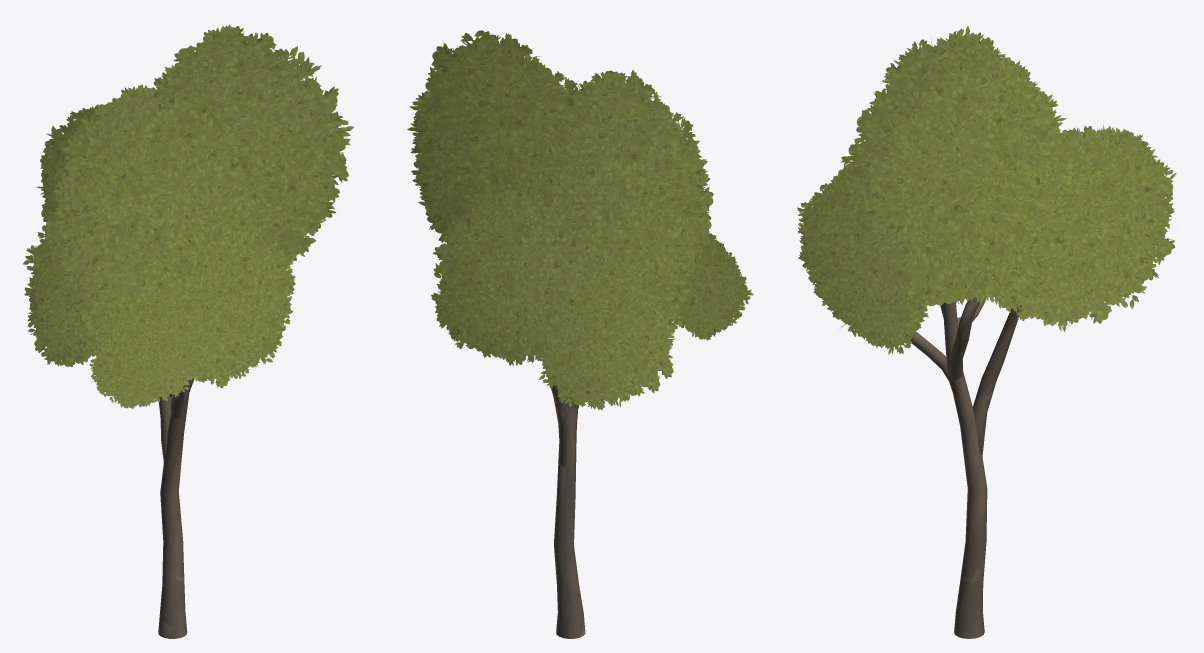
Rendered from SM_Tree_03.fbx.
3 renders of one model, left to right at view 1: azimuth 30°, elevation 25°; view 2: azimuth 150°, elevation 25°; view 3: azimuth 270°, elevation 25°, orthographic. The views are drawn at different scales.
Parts seen in each view (by area): view 1: SM_Tree_03_LOD0; view 2: SM_Tree_03_LOD0; view 3: SM_Tree_03_LOD0.
Part boxes in pixels (box(x1,y1,x2,y2)): SM_Tree_03_LOD0: box(23, 24, 353, 638); SM_Tree_03_LOD0: box(407, 30, 753, 638); SM_Tree_03_LOD0: box(797, 26, 1176, 638).
Bounding box in the file's own units: 698 × 763 × 1286.
2 materials, 2 textured.
